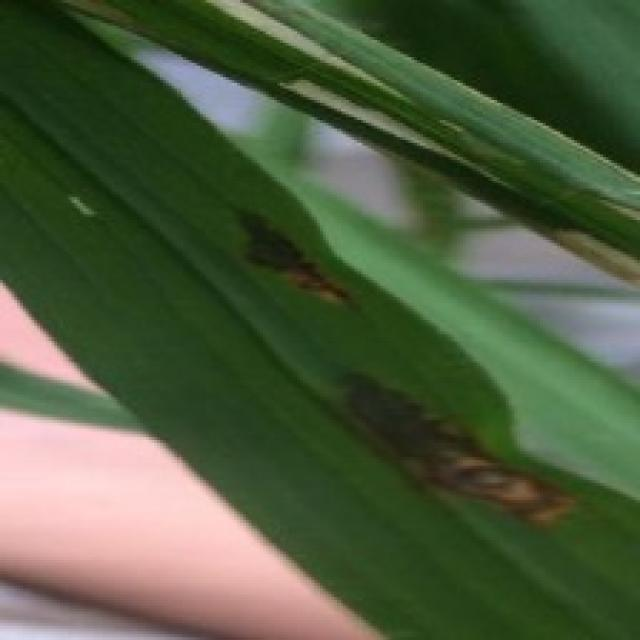Unhealthy: (344, 360, 573, 536), (281, 72, 512, 190), (205, 0, 417, 105), (233, 213, 344, 300), (546, 231, 640, 293), (593, 199, 640, 227)
